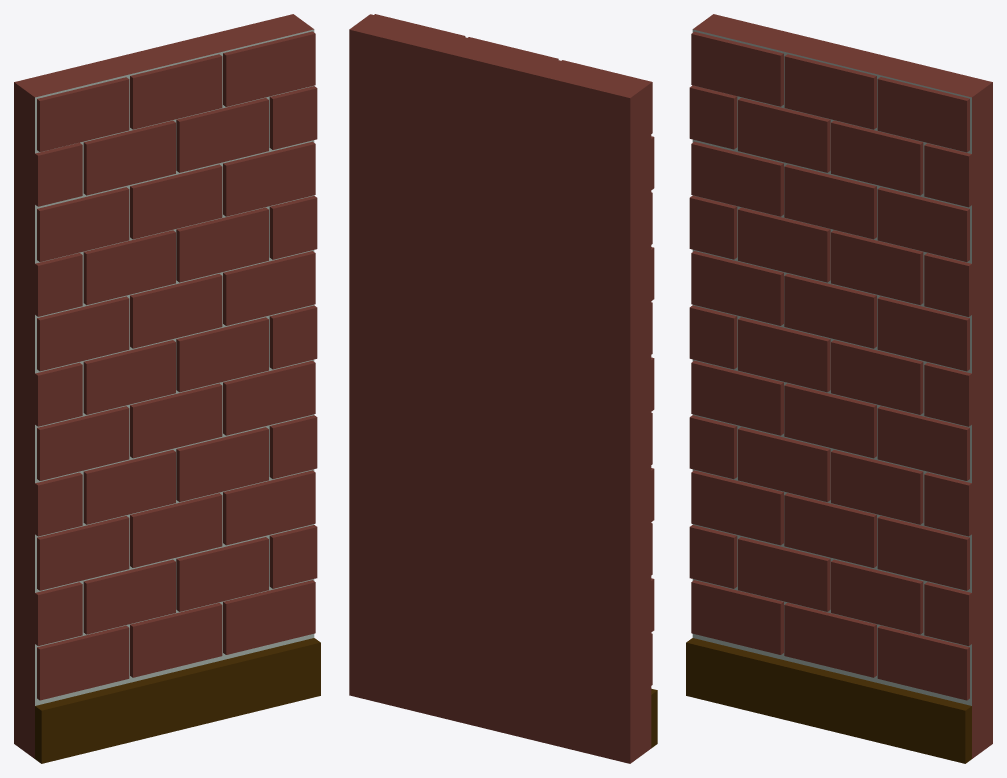
File: R_Wall_Small.fbx
3 views of the same model, side by side, from view 1: azimuth 30°, elevation 25°; view 2: azimuth 150°, elevation 25°; view 3: azimuth 330°, elevation 25° (orthographic).
Parts seen in each view (by area): view 1: R_Wall_Small; view 2: R_Wall_Small; view 3: R_Wall_Small.
Part boxes in pixels (box(x1,y1,x2,y2)): R_Wall_Small: box(14, 14, 320, 763); R_Wall_Small: box(349, 14, 657, 763); R_Wall_Small: box(686, 14, 992, 763).
Bounding box in the file's own units: 1000 × 170 × 2264.
